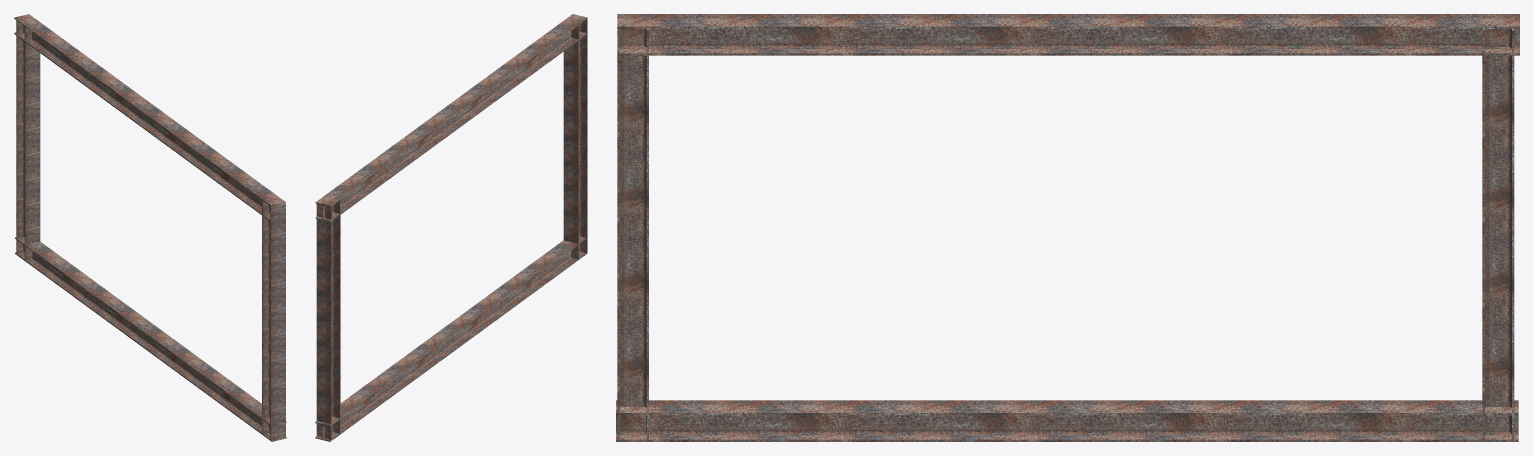
File: Cadre métallique.dae
3 renders of one model, left to right at view 1: azimuth 30°, elevation 25°; view 2: azimuth 150°, elevation 25°; view 3: azimuth 270°, elevation 25°, orthographic. The views are drawn at different scales.
Parts seen in each view (by area): view 1: group_0 (×4); view 2: group_0 (×4); view 3: group_0 (×4).
Part boxes in pixels (bbox=[...]): group_0 (×4): bbox=[14, 14, 286, 441]; group_0 (×4): bbox=[315, 14, 587, 441]; group_0 (×4): bbox=[616, 14, 1519, 441].
Bounding box in the file's own units: 94.11 × 2739 × 1387.
